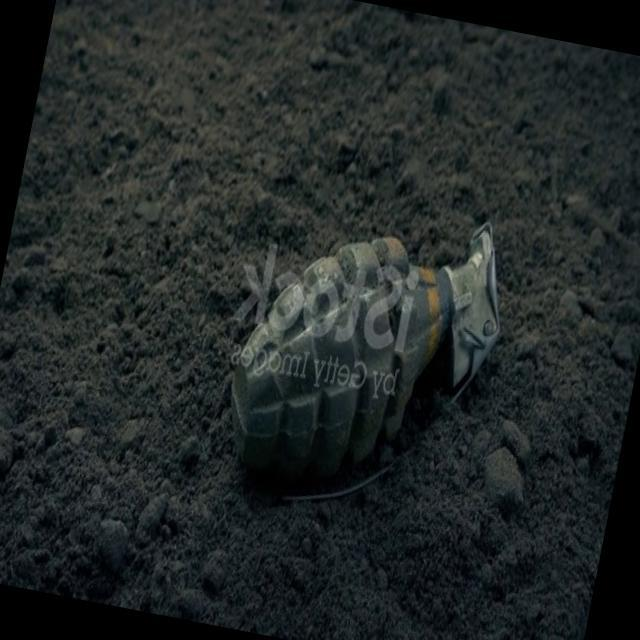grenade: (202, 182, 520, 537)
